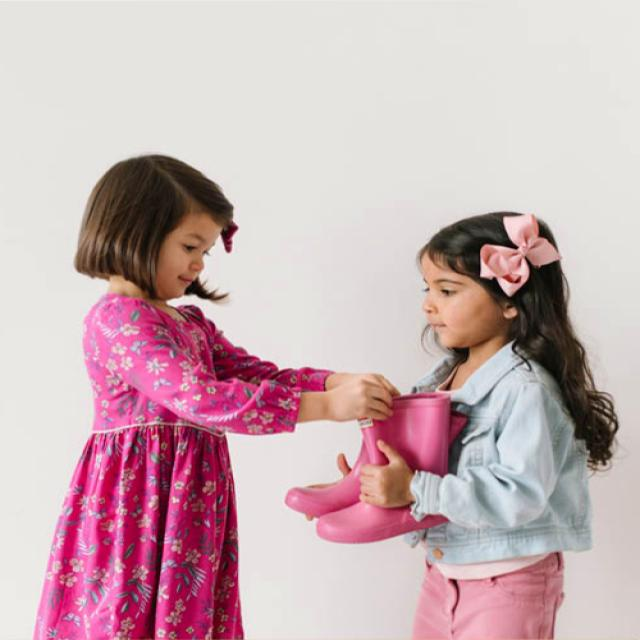child: (33, 153, 398, 640), (359, 209, 611, 640)
